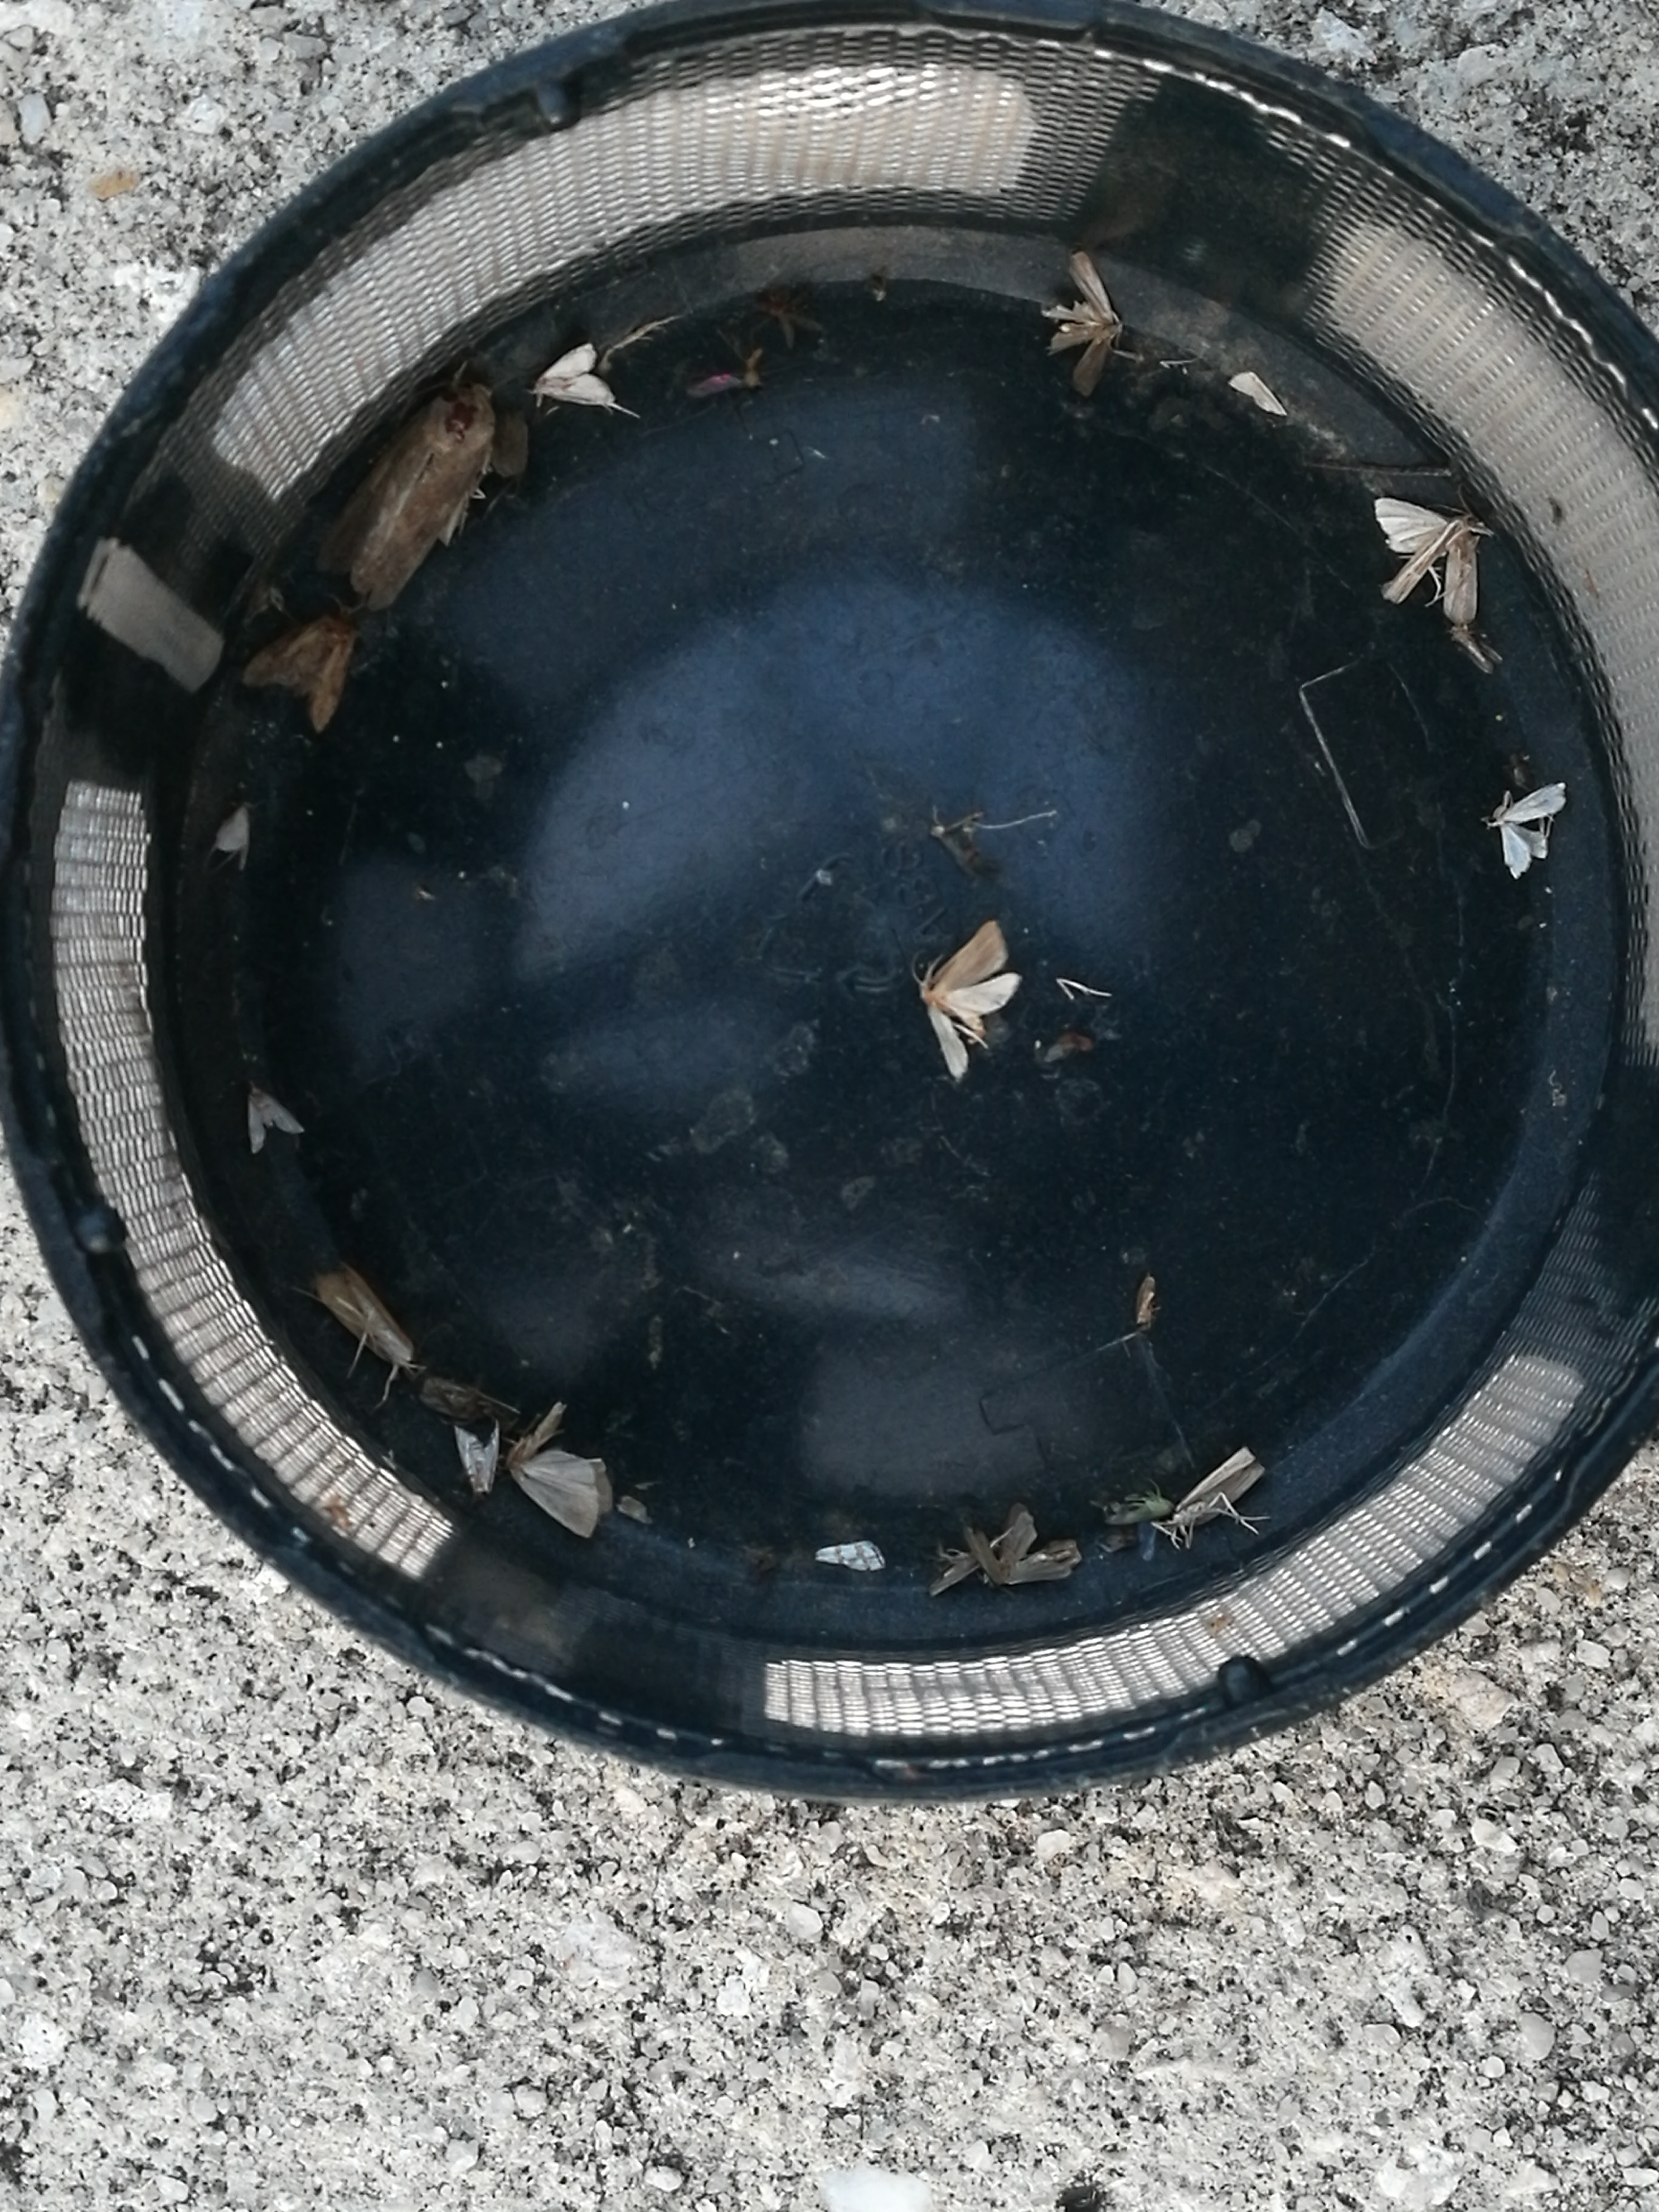mosquito: (1175, 1447, 1265, 1531), (1103, 1496, 1173, 1524)
moth: (319, 387, 493, 608), (922, 923, 1021, 1076), (242, 615, 352, 733), (1375, 498, 1480, 620), (1046, 253, 1117, 395), (315, 1271, 415, 1366), (509, 1447, 612, 1538), (969, 1505, 1079, 1581), (1504, 784, 1567, 878), (538, 343, 613, 406), (249, 1083, 305, 1153), (457, 1423, 500, 1493), (209, 803, 249, 869)
